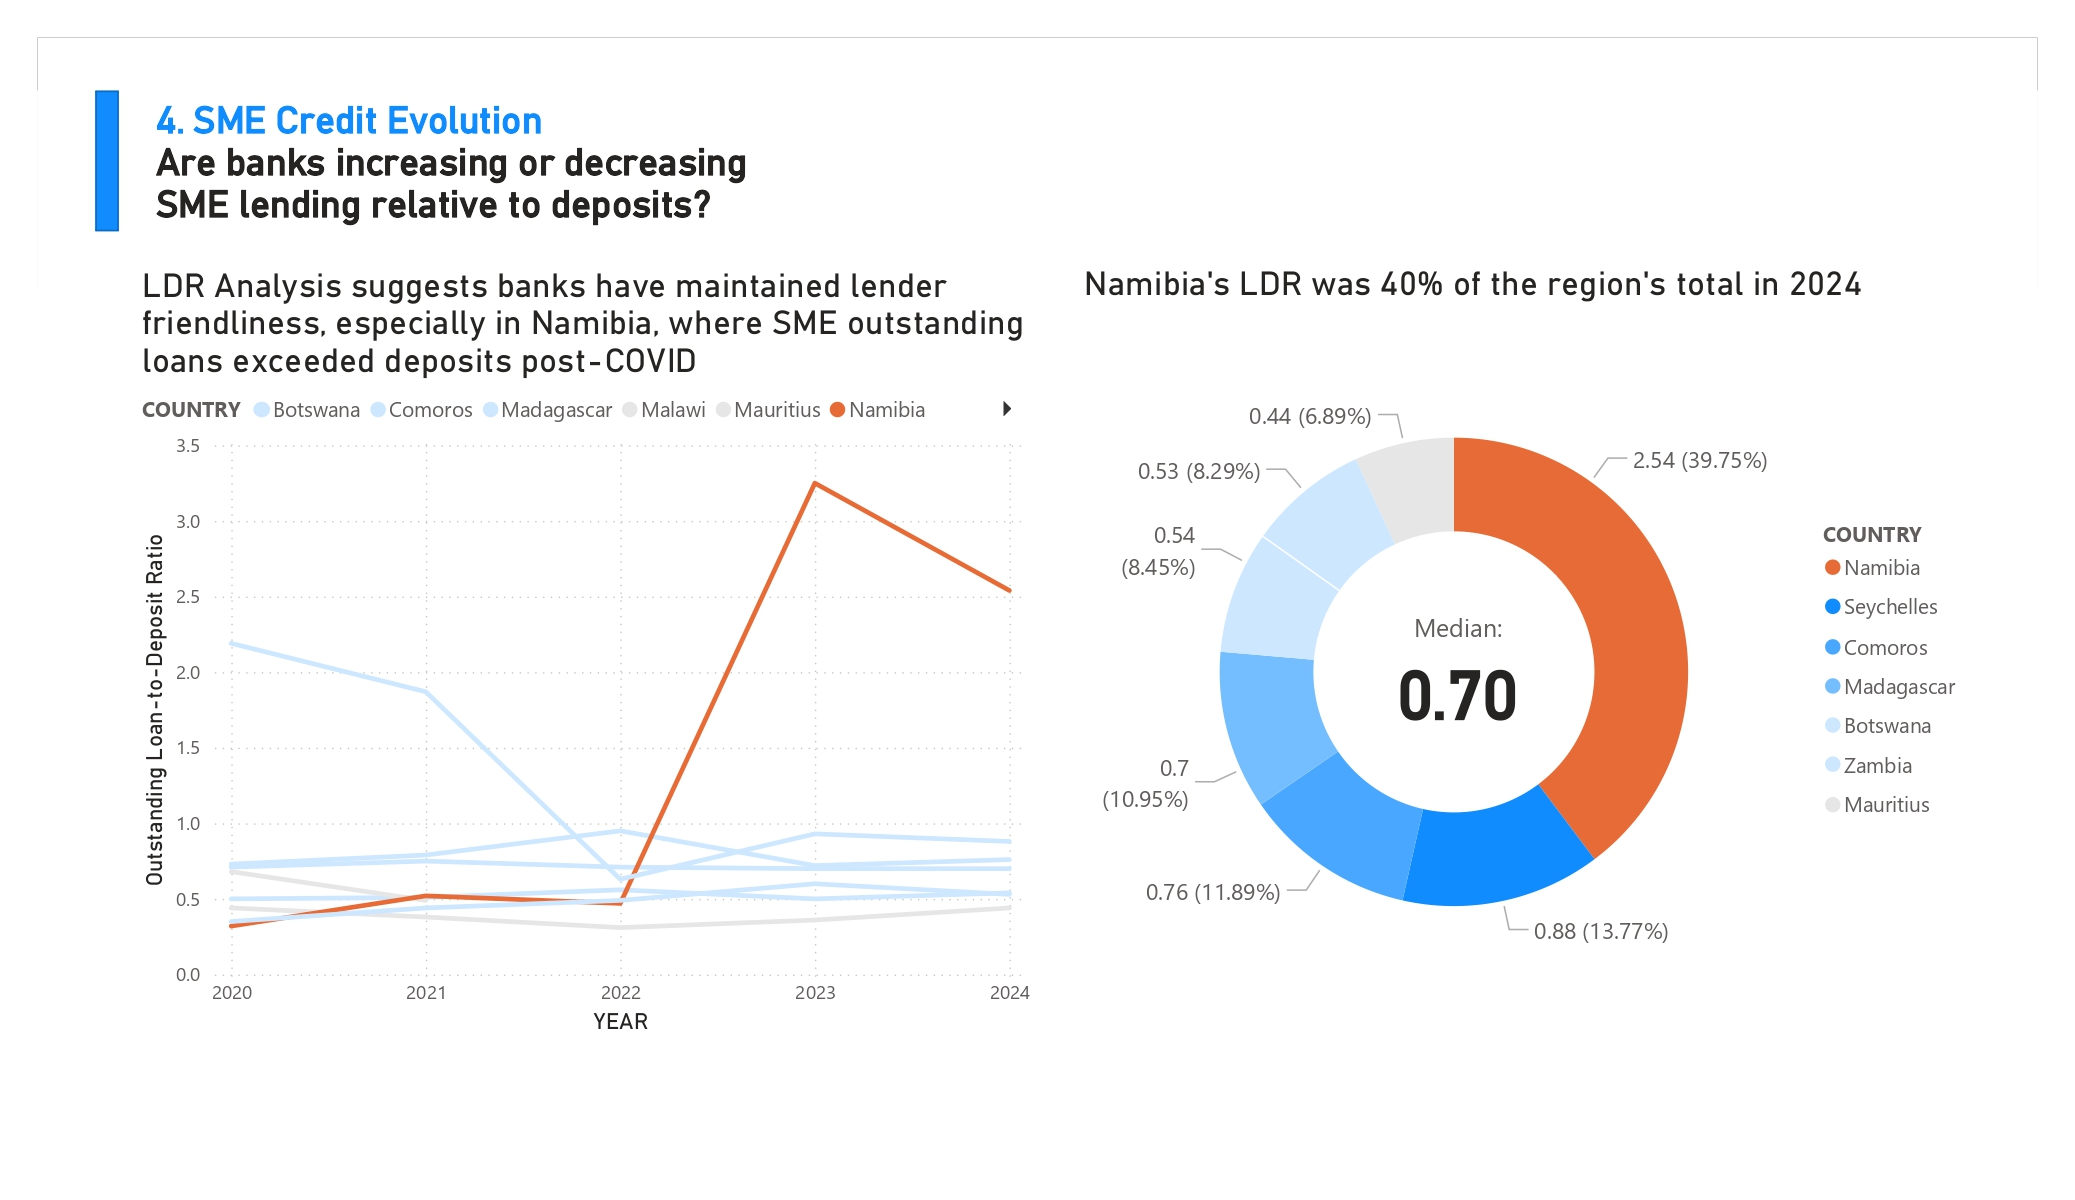

The page's visual inventory and layout, read from the dashboard file:
{"tool":"powerbi","page":{"name":"4. SME Credit","canvas":[1280,720],"ordinal":4},"visuals":[{"type":"lineChart","title":"LDR Ratio Analysis suggests banks have maintained lender friendliness, especially in Namibia, where SME outstanding loans exceeded deposits post-COVID","fields":{"Category":["4_imf_sme_credit_evolution.YEAR"],"Y":["Sum(4_imf_sme_credit_evolution.outstanding_loan_to_deposit_ratio)"],"Series":["4_imf_sme_credit_evolution.COUNTRY"]},"box":[62.2,146.1,577.8,497.2],"z":0},{"type":"donutChart","title":"Namibia''s LDR Ratio was 40% of the region''s total in 2024","fields":{"Category":["4_imf_sme_credit_evolution.COUNTRY"],"Y":["Sum(4_imf_sme_credit_evolution.outstanding_loan_to_deposit_ratio)"]},"box":[665.2,146.1,577.8,497.2],"z":1000},{"type":"shape","box":[37,33.6,15.1,90.7],"z":2000},{"type":"textbox","box":[70.6,33.6,433.4,102.5],"z":3000},{"type":"cardVisual","fields":{"Data":["Median(4_imf_sme_credit_evolution.outstanding_loan_to_deposit_ratio)"]},"box":[846.6,344.4,126,122.6],"z":4000}]}

Visuals, with their boxes in screenshot pixels (x1, y1, x2, y2):
"LDR Ratio Analysis suggests banks have maintained lender friendliness, especially in Namibia, where SME outstanding loans exceeded deposits post-COVID" lineChart: bbox=[135, 266, 1038, 1043]
"Namibia''s LDR Ratio was 40% of the region''s total in 2024" donutChart: bbox=[1077, 266, 1980, 1043]
shape: bbox=[95, 90, 119, 232]
textbox: bbox=[148, 90, 825, 250]
cardVisual - Median(4_imf_sme_credit_evolution.outstanding_loan_to_deposit_ratio): bbox=[1360, 576, 1557, 767]
